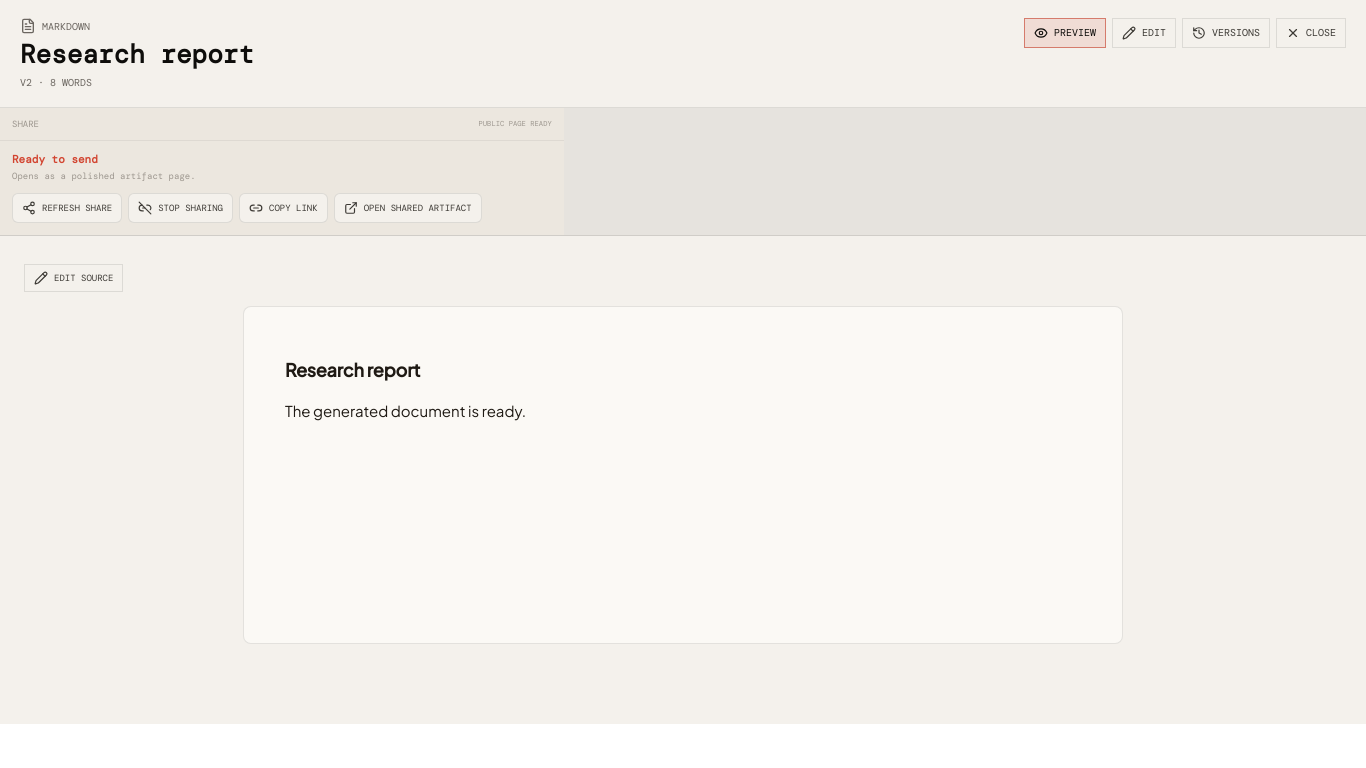
Test case: AgentArtifactCanvas › revokes a public artifact share link from the delivery rail
Expected: the link "Open shared artifact" is shown, [334, 194, 482, 224]
What coordinates should you click on to do the following:
click the button "Stop sharing"
I would click on:
 (181, 208)
Its box is [128, 194, 233, 224].
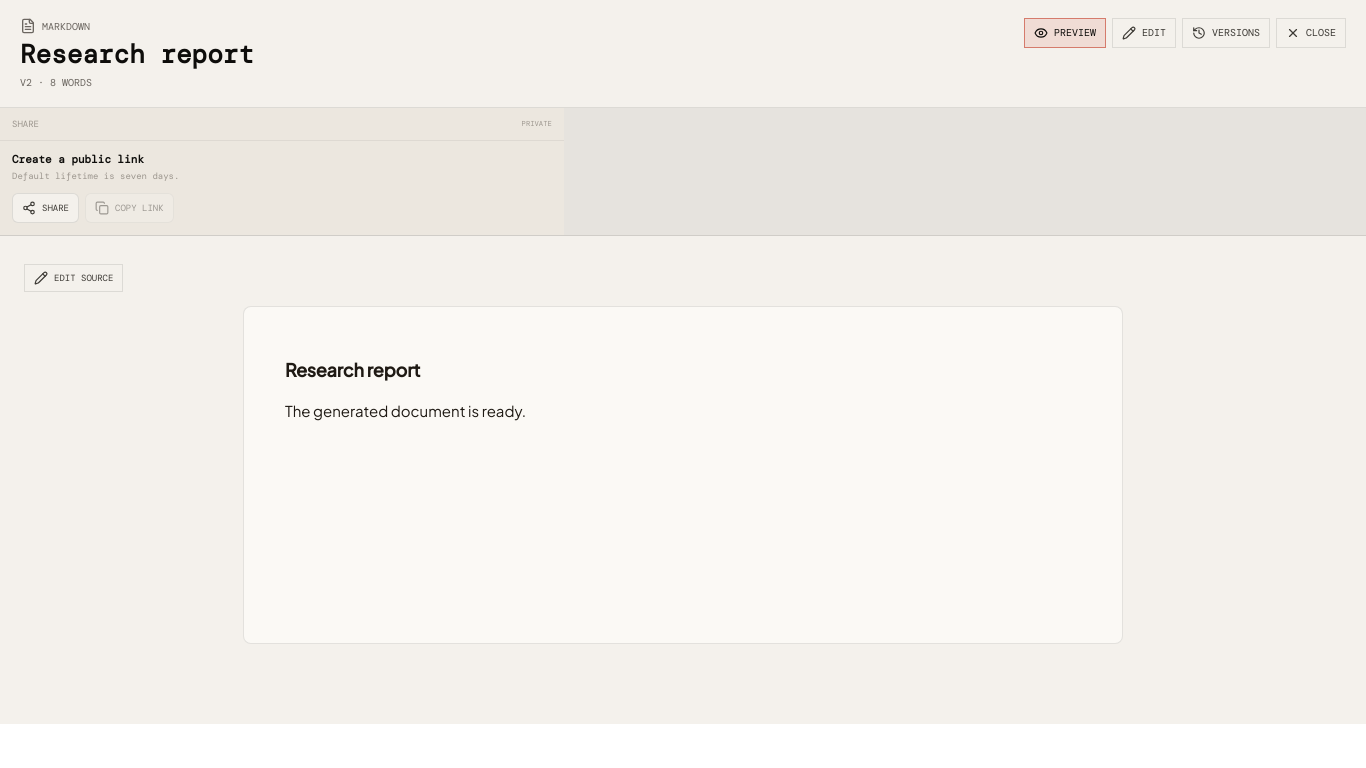
Expected: the link "Open shared artifact" is gone
Expected: the text "Create a public link" is shown, [12, 152, 144, 166]
